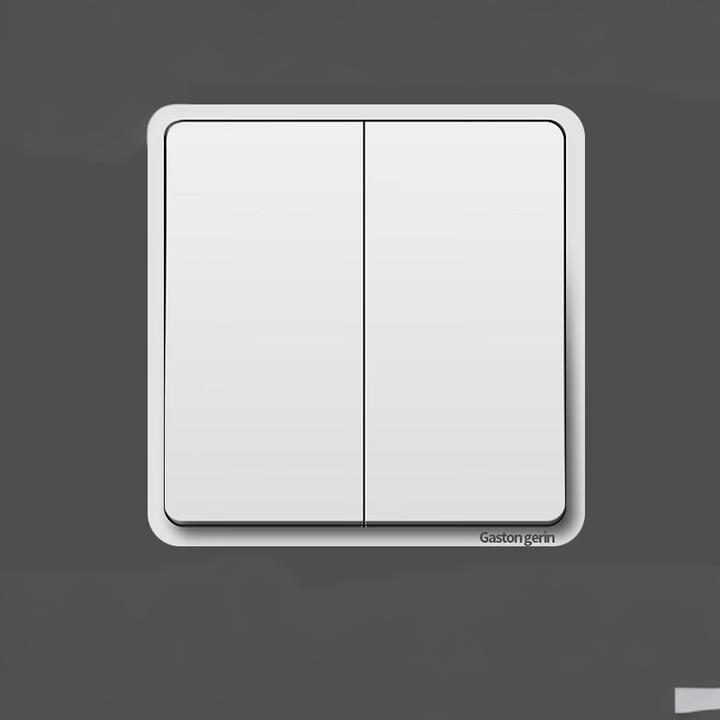button: (147, 103, 588, 545)
